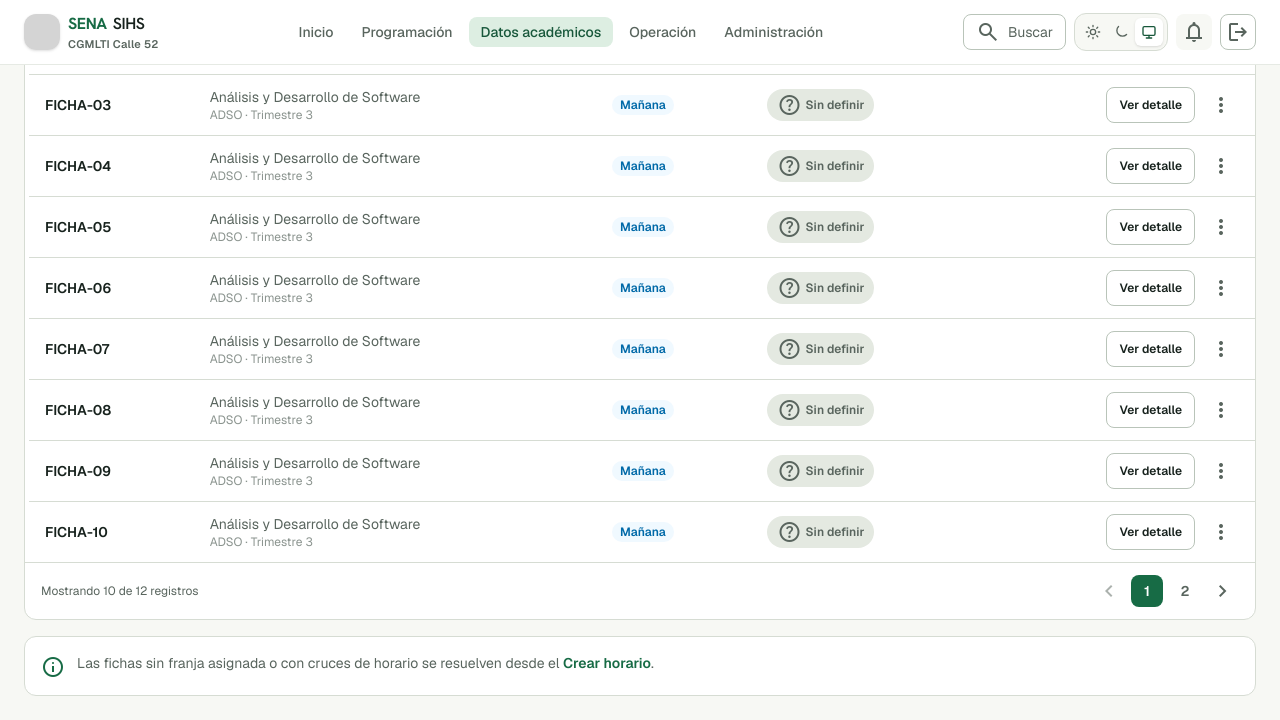
Test: Fichas › con más de 10 fichas, pagina y el botón de página 2 avanza
(page scrolled)
Check: the text "Mostrando 10 de 12 registros" is shown, box [41,583,198,599]
Check: the text "FICHA-11" is not shown
Click the button "2". click: point(1185, 591)
box: [1169,575,1201,607]
(page scrolled)
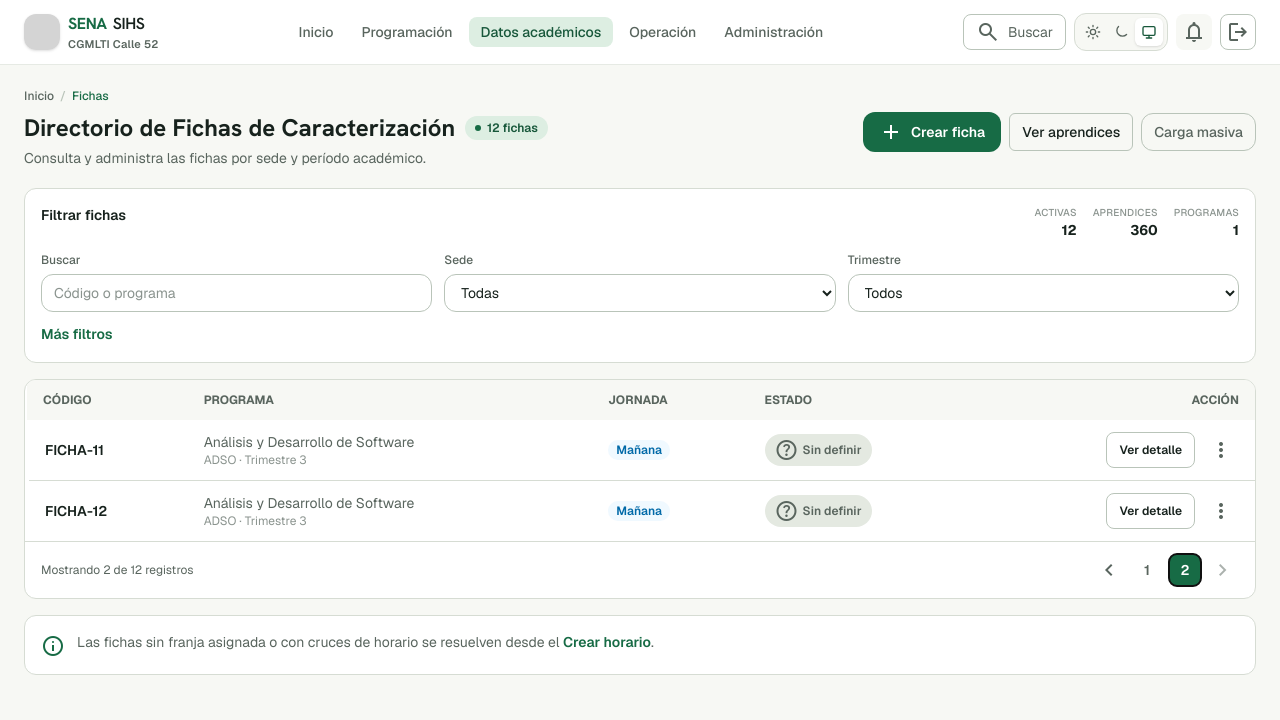
Check: the text "Mostrando 2 de 12 registros" is shown, box [41,562,194,578]
Check: the text "FICHA-11" is shown, box [27,420,188,480]
Check: the button named "Página siguiente" is disabled, box [1207,554,1239,586]
